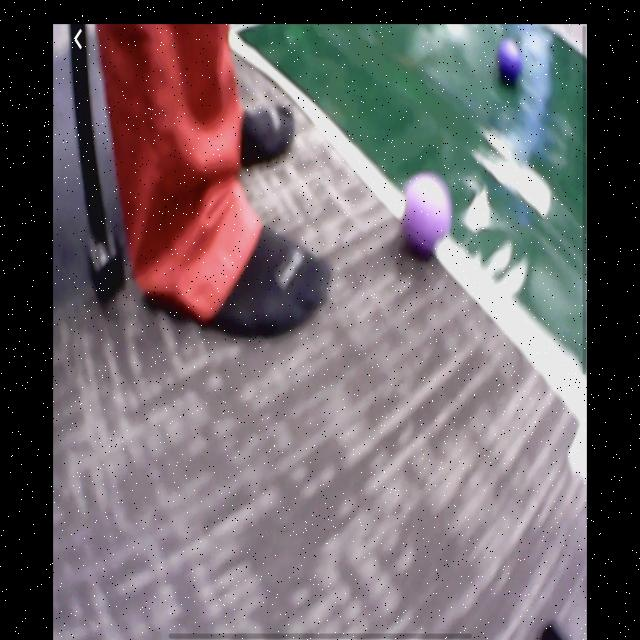ball: (404, 173, 451, 259), (499, 38, 523, 86)
